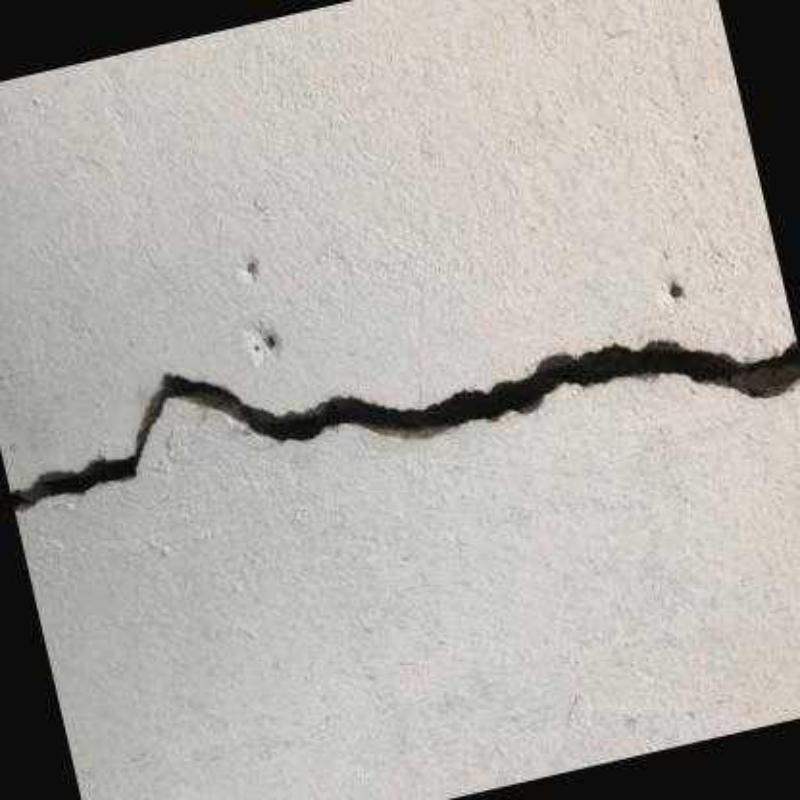pothole: (10, 338, 797, 521)
